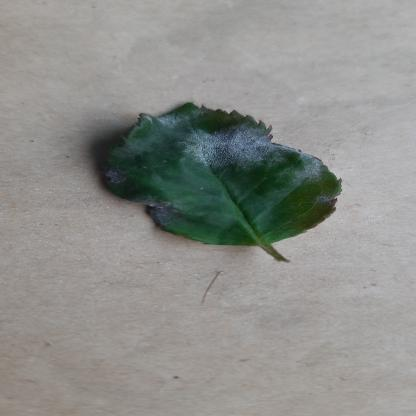powdery-mildew: (86, 100, 348, 249)
